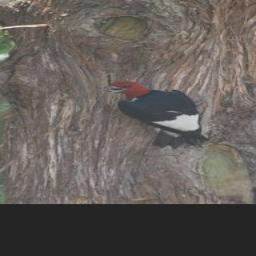Woodpecker: (93, 78, 219, 148)
